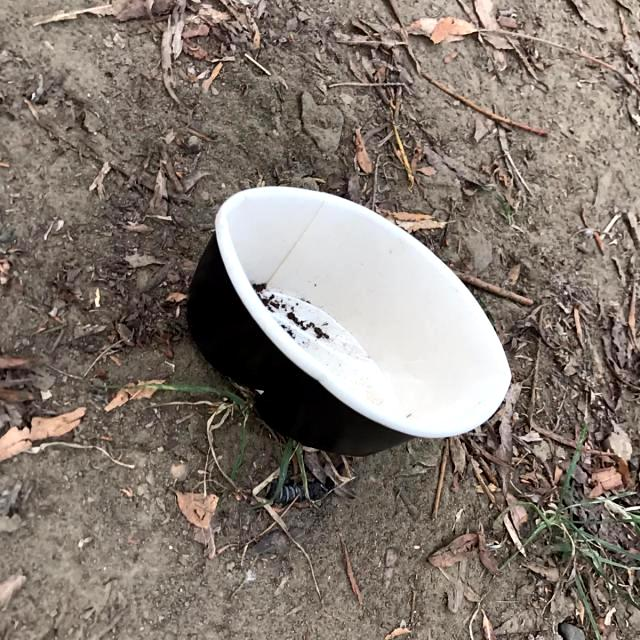Paper: (196, 182, 514, 458)
